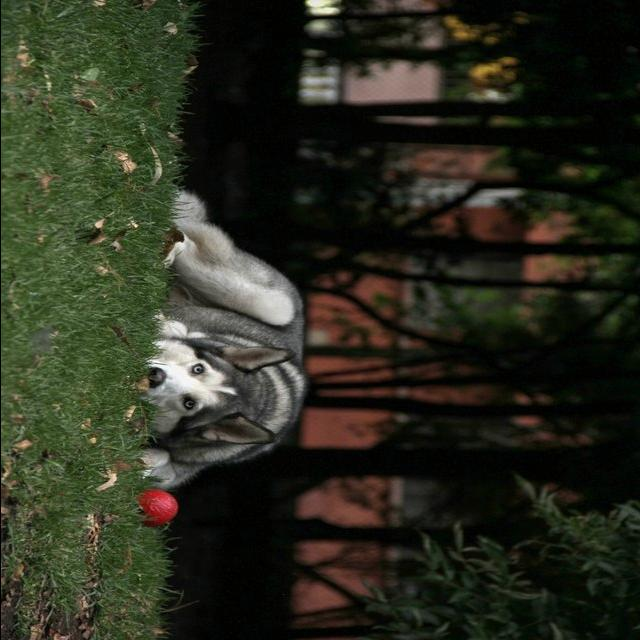husky: (136, 187, 309, 491)
